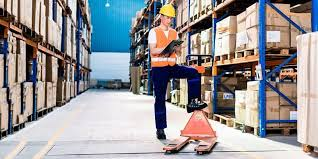Pallet Jack: (161, 54, 220, 155)
